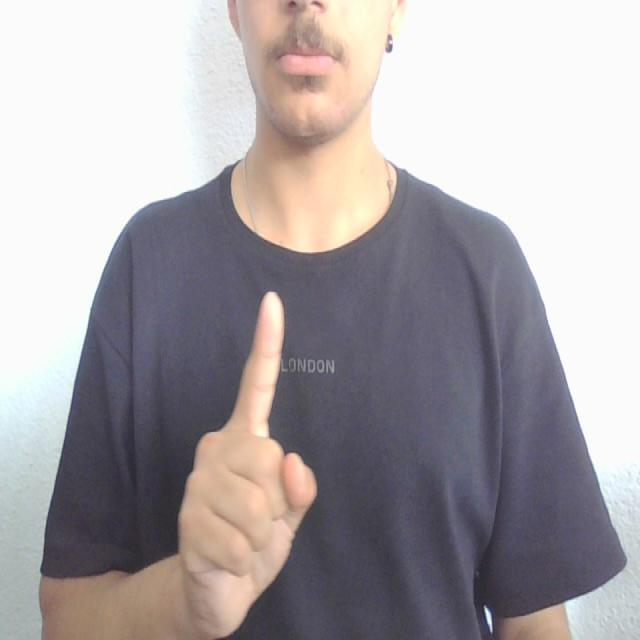Hayir: (169, 260, 339, 640)
